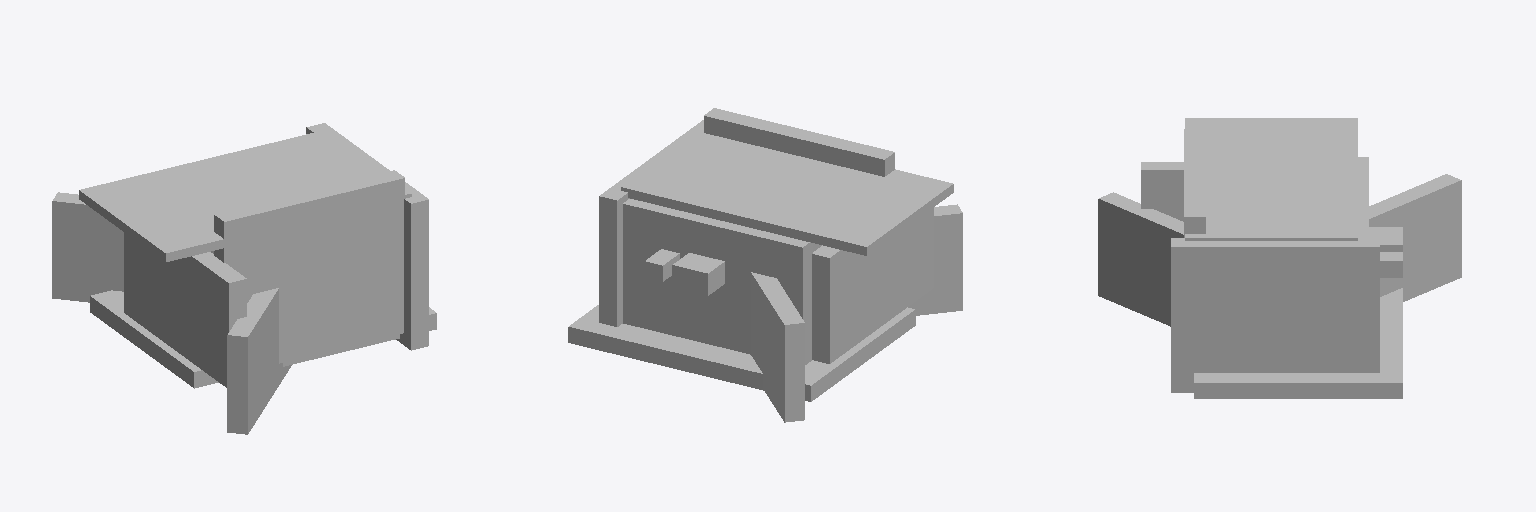
Rendered from systemshock2.obj.
The picture shows the model from 3 angles: view 1: azimuth 30°, elevation 25°; view 2: azimuth 150°, elevation 25°; view 3: azimuth 270°, elevation 25°; orthographic projection.
Bounding box in the file's own units: 41.82 × 25.57 × 47.62.